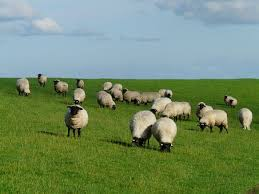sheep: (153, 117, 179, 159), (131, 110, 157, 149), (63, 105, 91, 139), (199, 108, 228, 136), (167, 100, 192, 121), (11, 73, 33, 96), (97, 88, 118, 111), (150, 95, 172, 116), (237, 107, 251, 133), (221, 92, 240, 109), (124, 89, 144, 105), (140, 88, 159, 104), (53, 80, 70, 97), (112, 85, 127, 103), (196, 102, 216, 115), (74, 87, 87, 106), (102, 81, 117, 95), (36, 73, 49, 88), (157, 86, 171, 99), (76, 78, 85, 89)
